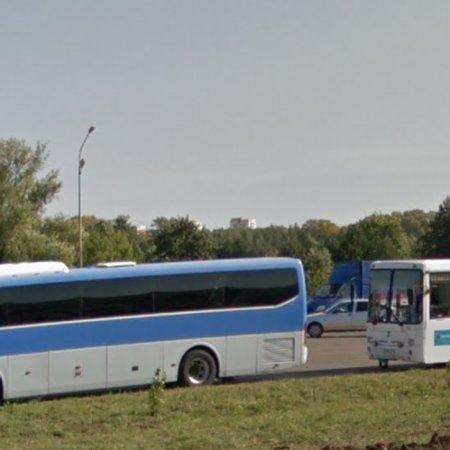buses: (1, 258, 308, 401), (369, 260, 450, 368)
